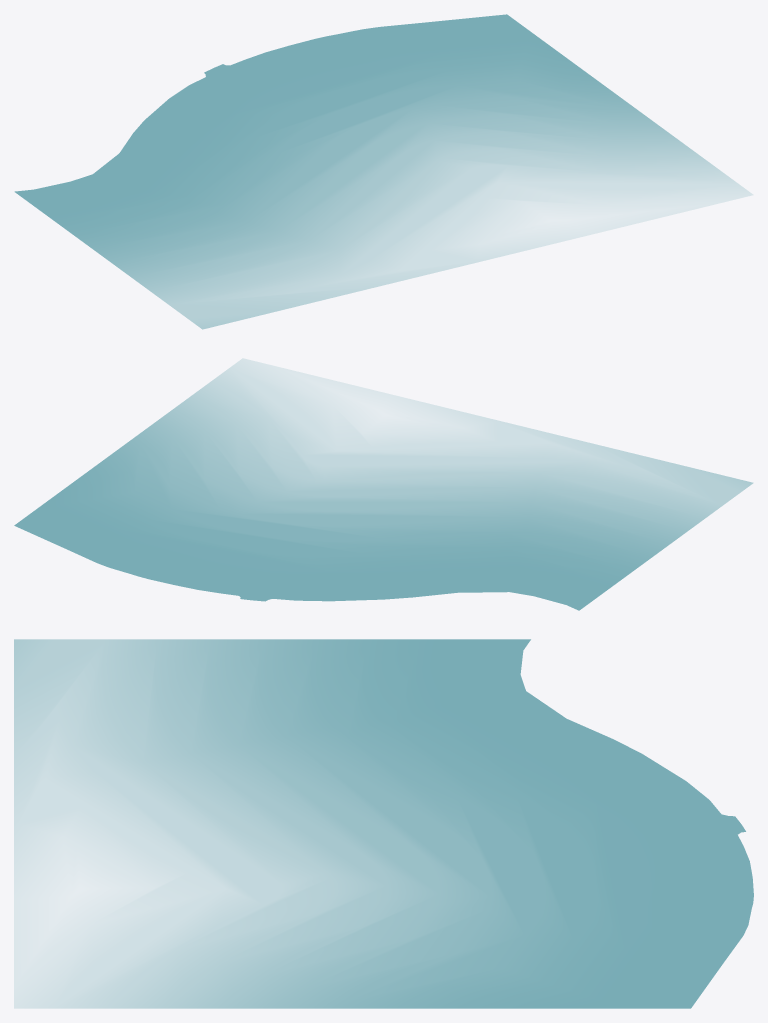
3 renders of one model, top to bottom at view 1: azimuth 30°, elevation 25°; view 2: azimuth 150°, elevation 25°; view 3: azimuth 270°, elevation 25°, orthographic. The views are drawn at different scales.
Visible parts, largest first — view 1: city; view 2: city; view 3: city.
Boxes of the visible parts, x1,y1,x2,y2 form: city: [14, 14, 752, 329]; city: [14, 358, 752, 610]; city: [14, 639, 753, 1008].
Size of the model in its own units: 500 by 0 by 424.
